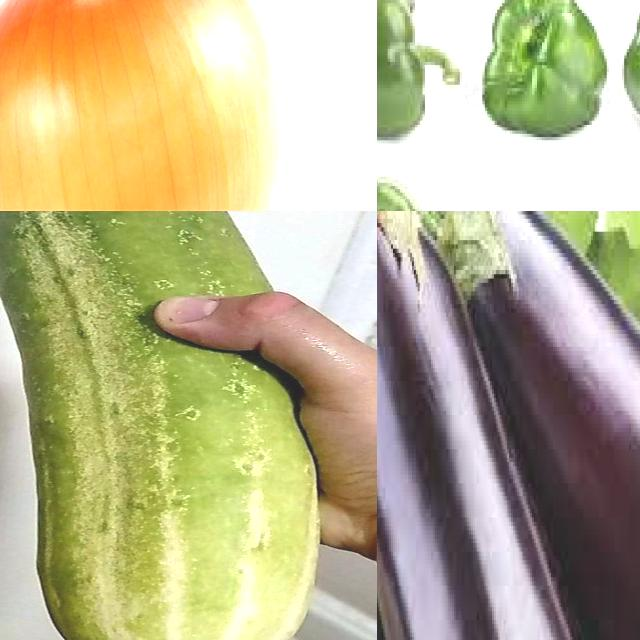bell_pepper: (475, 1, 615, 155), (378, 1, 464, 151)
cucumber: (1, 212, 327, 640)
eggplant: (378, 212, 588, 640), (449, 212, 640, 640)
onion: (1, 1, 283, 212)
